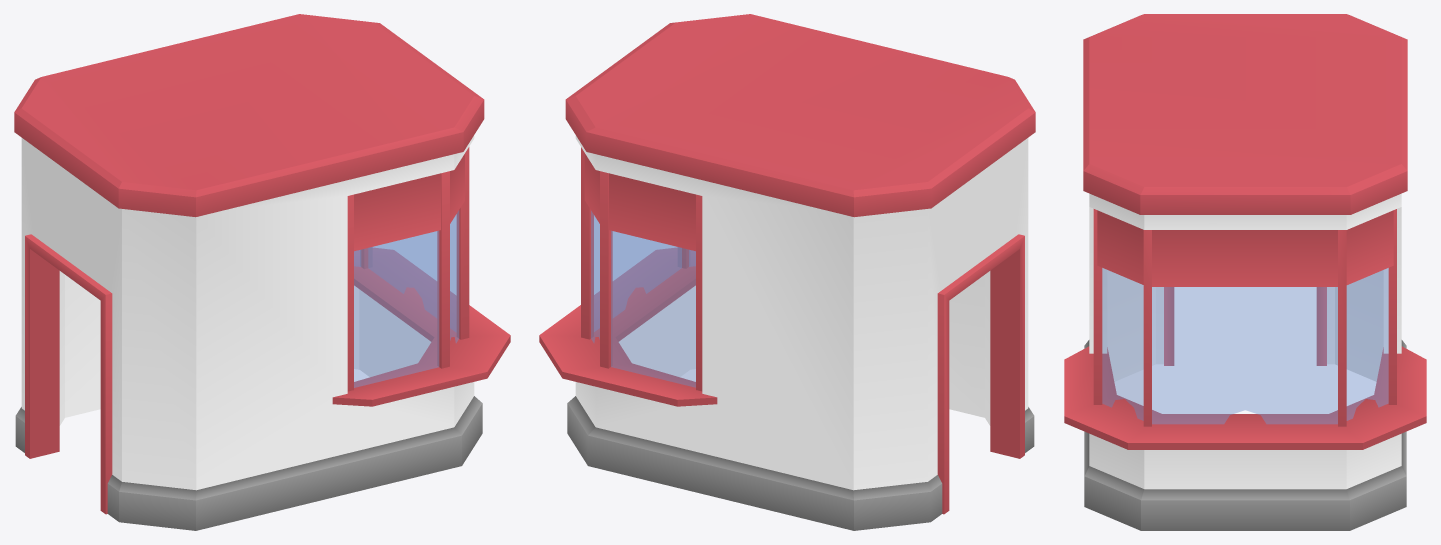
The model's file is booth.glb.
3 renders of one model, left to right at view 1: azimuth 30°, elevation 25°; view 2: azimuth 150°, elevation 25°; view 3: azimuth 270°, elevation 25°, orthographic.
Visible parts, largest first — view 1: TicketBooth; view 2: TicketBooth; view 3: TicketBooth.
Boxes of the visible parts, x1,y1,x2,y2 form: TicketBooth: [14, 14, 510, 530]; TicketBooth: [539, 14, 1035, 530]; TicketBooth: [1064, 14, 1426, 530].
Size of the model in its own units: 4.07 by 3.4 by 3.28.
